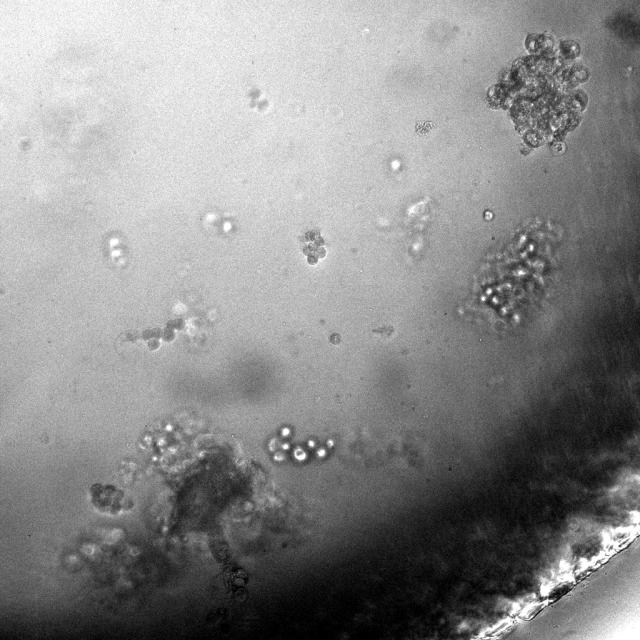organoid: (58, 407, 307, 629), (486, 31, 590, 155), (458, 219, 561, 329), (266, 423, 335, 465), (119, 317, 185, 351), (90, 483, 133, 516), (301, 229, 327, 265), (414, 120, 436, 136), (482, 209, 494, 222), (329, 333, 341, 345)
